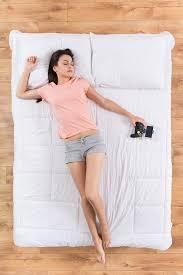FallenBody: (22, 38, 158, 269)
